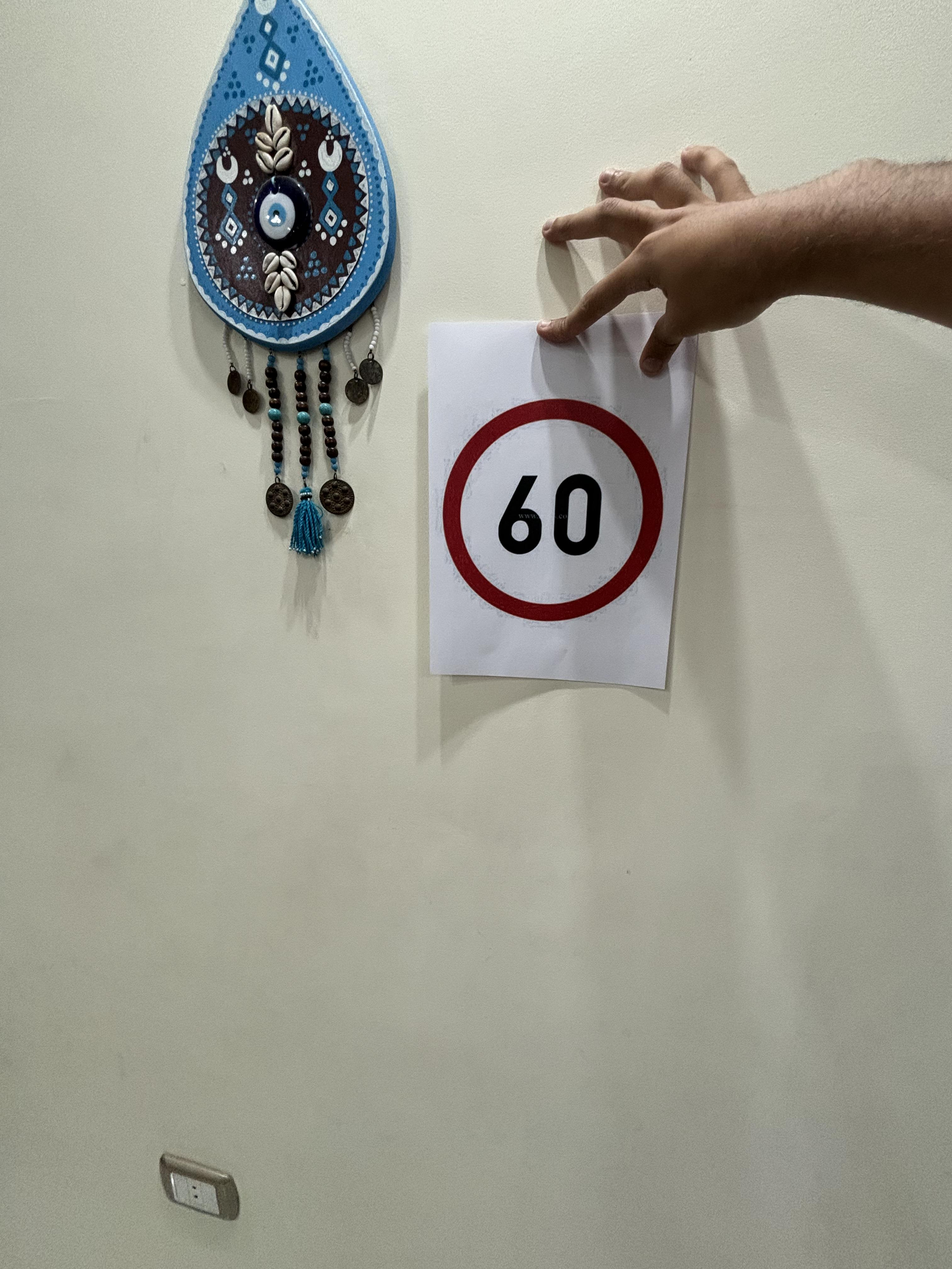60-Speed: (448, 394, 666, 636)
